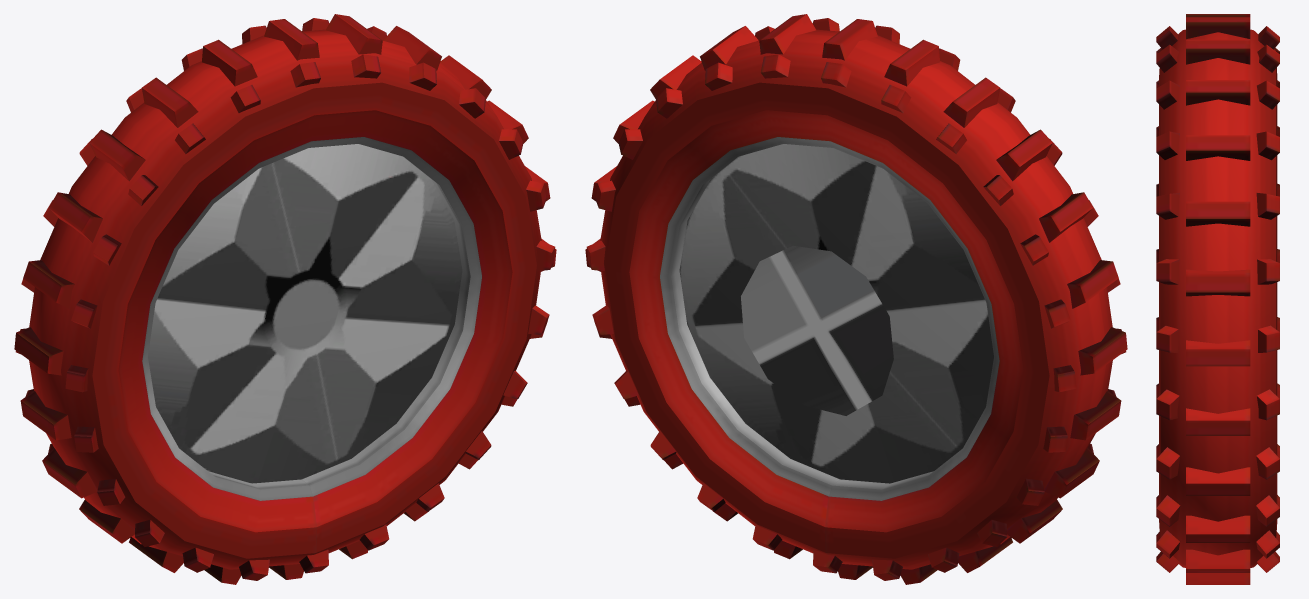
The model's file is WheelB_Husky.fbx.
The picture shows the model from 3 angles, left to right: view 1: azimuth 30°, elevation 25°; view 2: azimuth 150°, elevation 25°; view 3: azimuth 270°, elevation 25°; orthographic projection. The views are drawn at different scales.
Visible parts, largest first — view 1: Husky_WheelB_1.001; view 2: Husky_WheelB_1.001; view 3: Husky_WheelB_1.001.
Part boxes in pixels (bbox=[...]): Husky_WheelB_1.001: bbox=[14, 14, 556, 584]; Husky_WheelB_1.001: bbox=[585, 14, 1127, 584]; Husky_WheelB_1.001: bbox=[1156, 14, 1279, 584].
Bounding box in the file's own units: 54.37 × 54.37 × 13.12.
